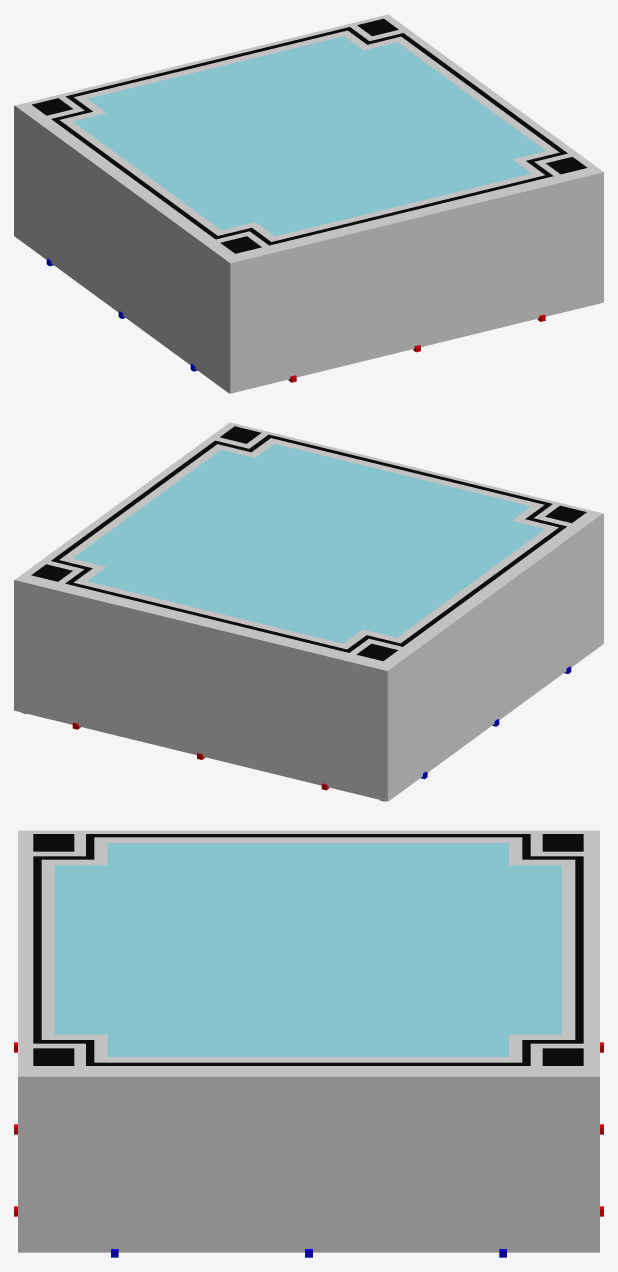
The picture shows the model from 3 angles, top to bottom: view 1: azimuth 30°, elevation 25°; view 2: azimuth 150°, elevation 25°; view 3: azimuth 270°, elevation 25°; orthographic projection. The views are drawn at different scales.
Parts seen in each view (by area): view 1: cube, col2, pa1.005, pa1.004, pa1.003; view 2: col2, cube, pa1.001, pa1.002, pa1, pa1.004, pa1.005, pa1.003; view 3: cube, col2.
Part boxes in pixels (x1=…): cube: x1=15, y1=14, x2=603, y2=393; col2: x1=32, y1=18, x2=587, y2=253; pa1.005: x1=157, y1=211, x2=229, y2=393; pa1.004: x1=14, y1=106, x2=85, y2=288; pa1.003: x1=86, y1=158, x2=157, y2=340; col2: x1=31, y1=426, x2=586, y2=661; cube: x1=14, y1=422, x2=603, y2=801; pa1.001: x1=263, y1=641, x2=387, y2=801; pa1.002: x1=14, y1=580, x2=138, y2=740; pa1: x1=138, y1=611, x2=262, y2=771; pa1.004: x1=388, y1=619, x2=460, y2=801; pa1.005: x1=532, y1=514, x2=603, y2=695; pa1.003: x1=460, y1=566, x2=531, y2=748; cube: x1=18, y1=830, x2=599, y2=1252; col2: x1=33, y1=834, x2=583, y2=1065.
Bounding box in the file's own units: 15.2 × 5.21 × 15.2.
